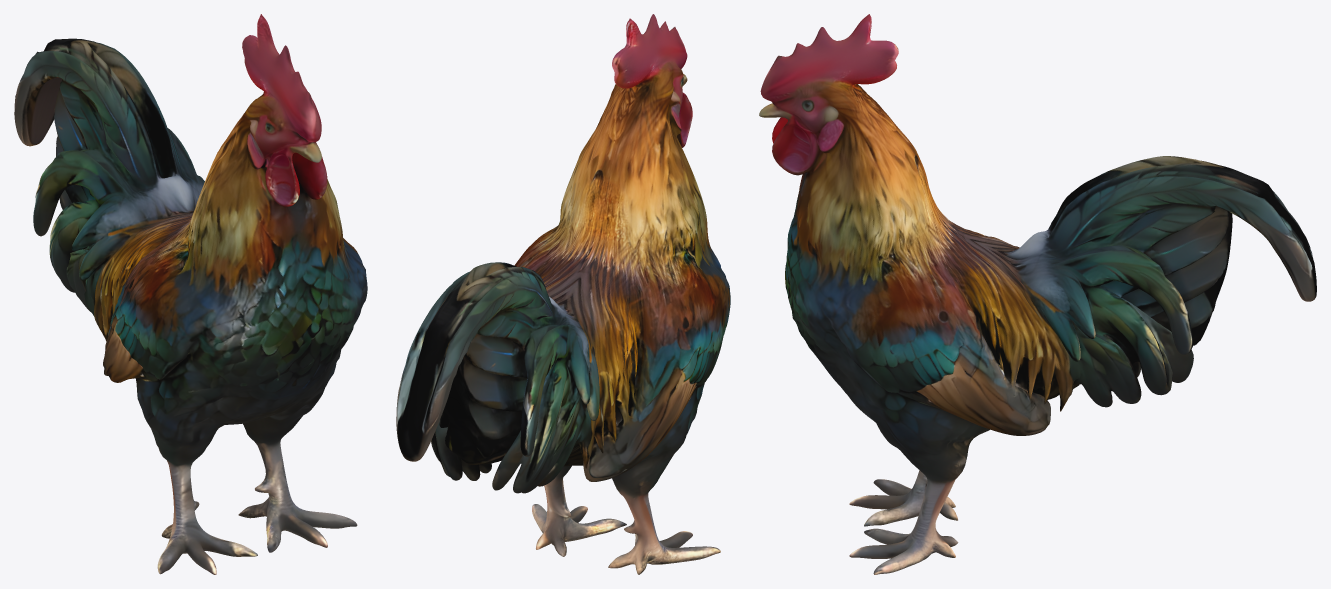
3 views of the same model, side by side, from view 1: azimuth 30°, elevation 25°; view 2: azimuth 150°, elevation 25°; view 3: azimuth 270°, elevation 25° (orthographic). The views are drawn at different scales.
Parts seen in each view (by area): view 1: model_0; view 2: model_0; view 3: model_0.
Boxes of the visible parts, box(x1,y1,x2,y2) form: model_0: box(14, 14, 367, 574); model_0: box(396, 14, 730, 574); model_0: box(759, 14, 1316, 574).
Size of the model in its own units: 0.7456 by 1.81 by 1.76.
1 material, 1 textured.
